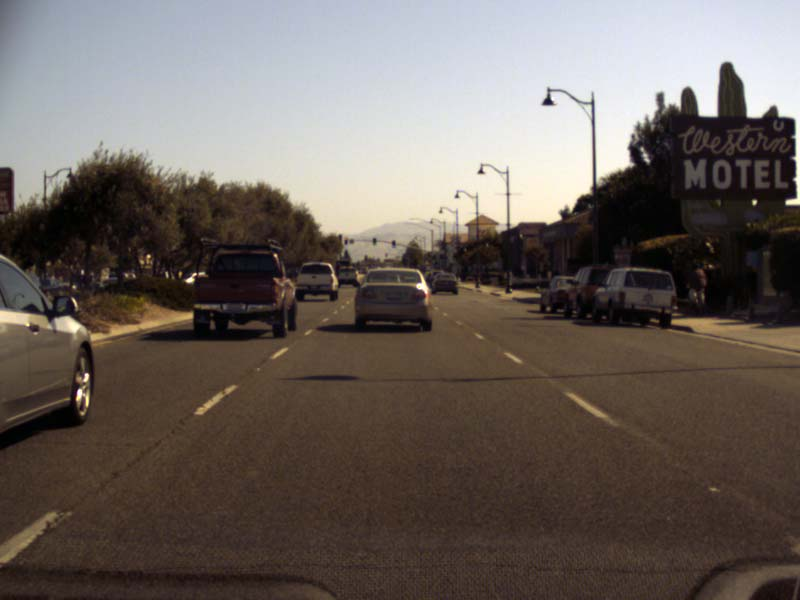Green: (391, 240, 395, 248), (372, 238, 376, 245)
Red: (344, 236, 347, 244)
